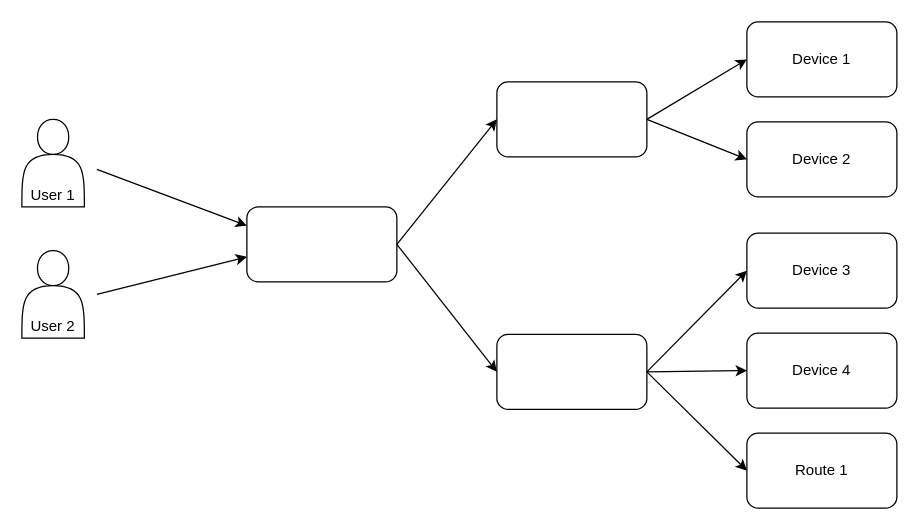
The diagram is 919 pixels wide and 530 high, and some of its shapes have lost their labels. The box of each missing label's shape, as (x1, y1, x2, y2) in pixels:
Application 1: (496, 81, 647, 157)
Application 2: (496, 333, 647, 409)
Organization: (246, 206, 397, 282)
